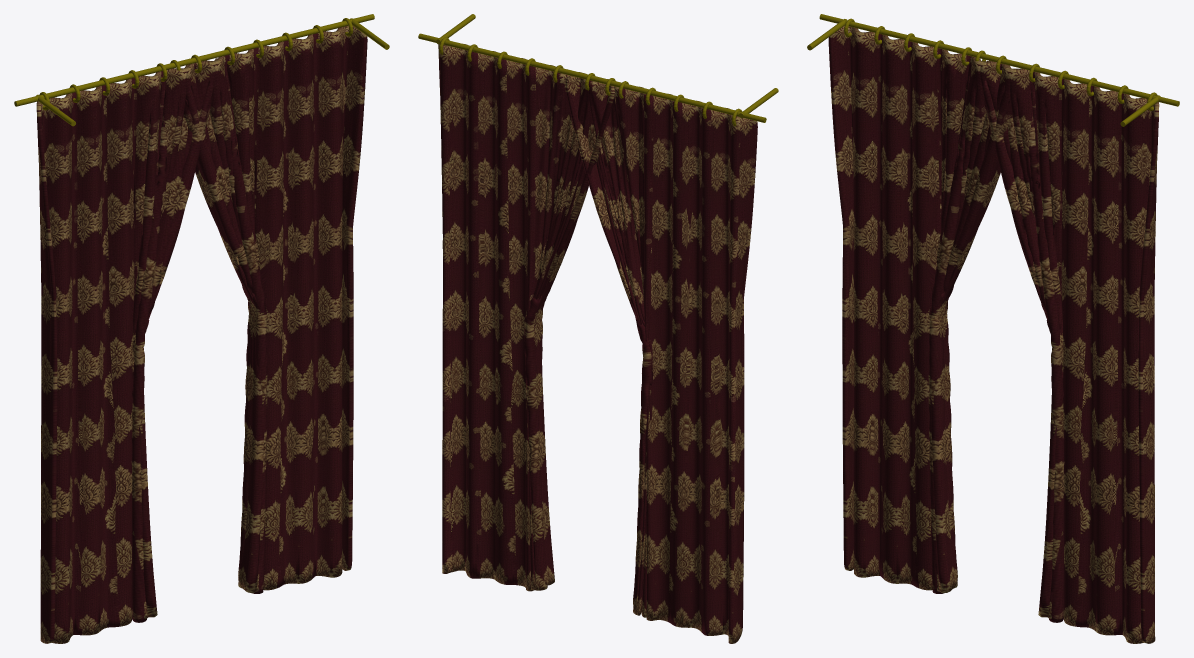
File: Curtines_test.fbx
3 views of the same model, side by side, from view 1: azimuth 30°, elevation 25°; view 2: azimuth 150°, elevation 25°; view 3: azimuth 330°, elevation 25° (orthographic). The views are drawn at different scales.
Parts seen in each view (by area): view 1: Torus.004; view 2: Torus.004; view 3: Torus.004.
Part boxes in pixels (<box>): Torus.004: <box>14,14,389,643</box>; Torus.004: <box>418,14,778,643</box>; Torus.004: <box>807,14,1179,643</box>.
Size of the model in its own units: 0.385 by 1.94 by 2.85.
Materials: 2 (1 with a texture image).
